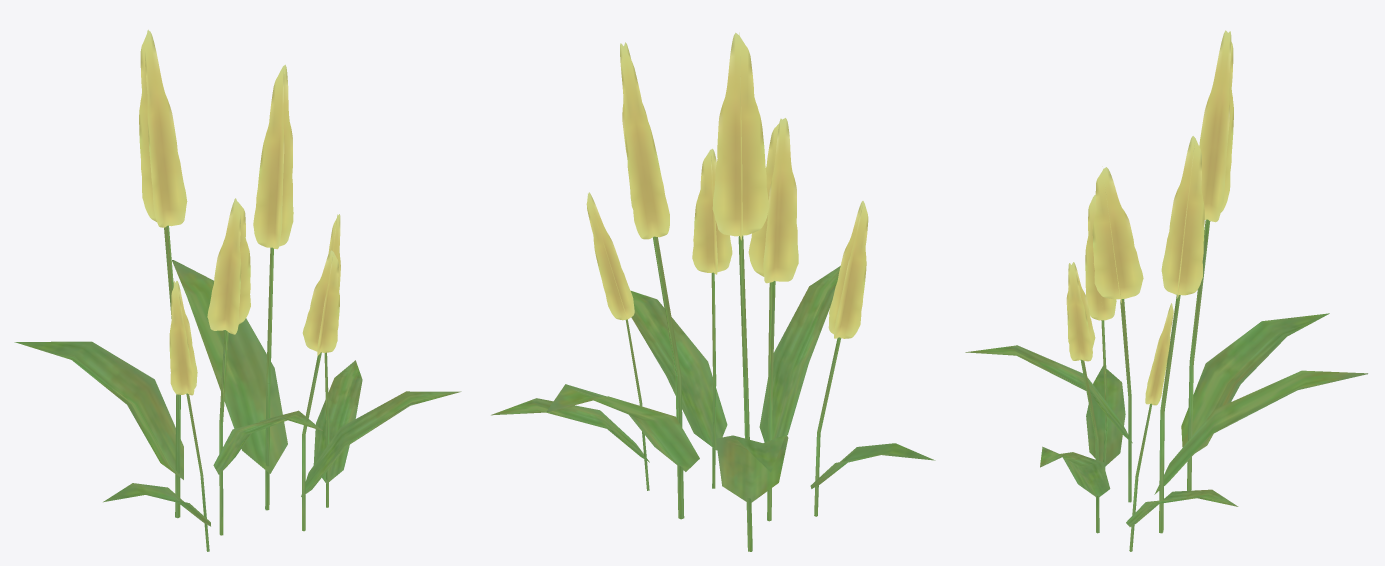
The model's file is P_FoxtailsLight1.obj.
The picture shows the model from 3 angles, left to right: view 1: azimuth 30°, elevation 25°; view 2: azimuth 150°, elevation 25°; view 3: azimuth 270°, elevation 25°; orthographic projection. The views are drawn at different scales.
Size of the model in its own units: 0.9329 by 1.33 by 1.03.
